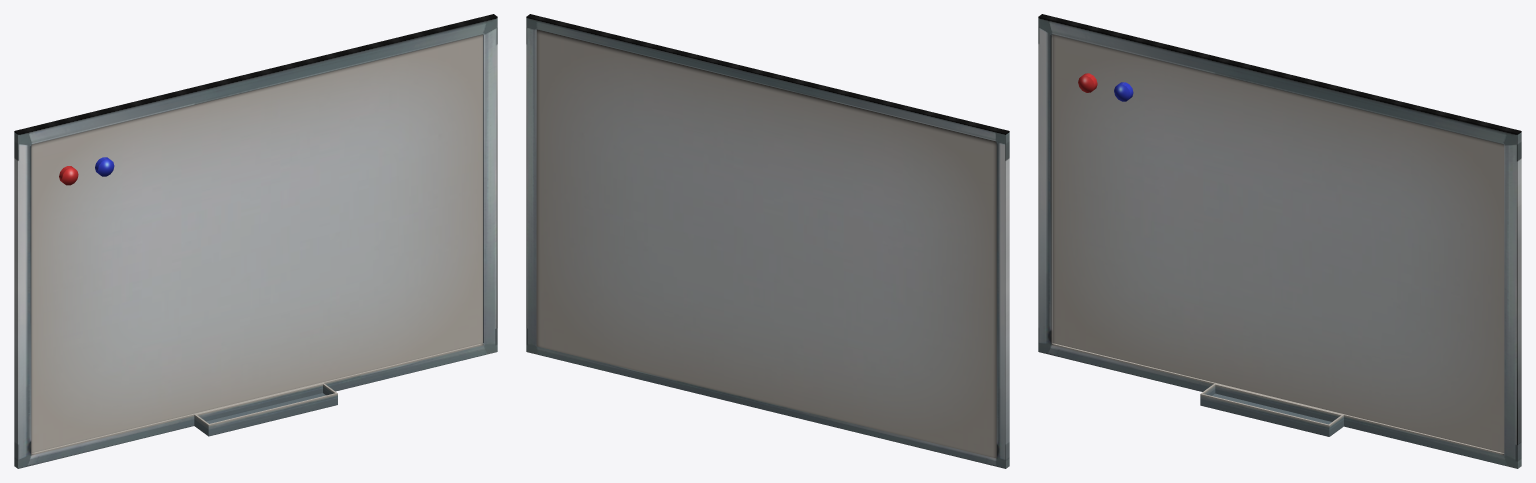
The model's file is Obj-tableau-blanc-mural-A150X100_01.FBX.
3 views of the same model, side by side, from view 1: azimuth 30°, elevation 25°; view 2: azimuth 150°, elevation 25°; view 3: azimuth 330°, elevation 25° (orthographic).
Visible parts, largest first — view 1: Obj-tableau-blanc-mural-A150X100_01; view 2: Obj-tableau-blanc-mural-A150X100_01; view 3: Obj-tableau-blanc-mural-A150X100_01.
Boxes of the visible parts, bbox=[...] form: Obj-tableau-blanc-mural-A150X100_01: bbox=[14, 14, 497, 468]; Obj-tableau-blanc-mural-A150X100_01: bbox=[526, 14, 1009, 468]; Obj-tableau-blanc-mural-A150X100_01: bbox=[1038, 14, 1521, 468].
Size of the model in its own units: 150 by 9.81 by 100.
Materials: 1 (1 with a texture image).
